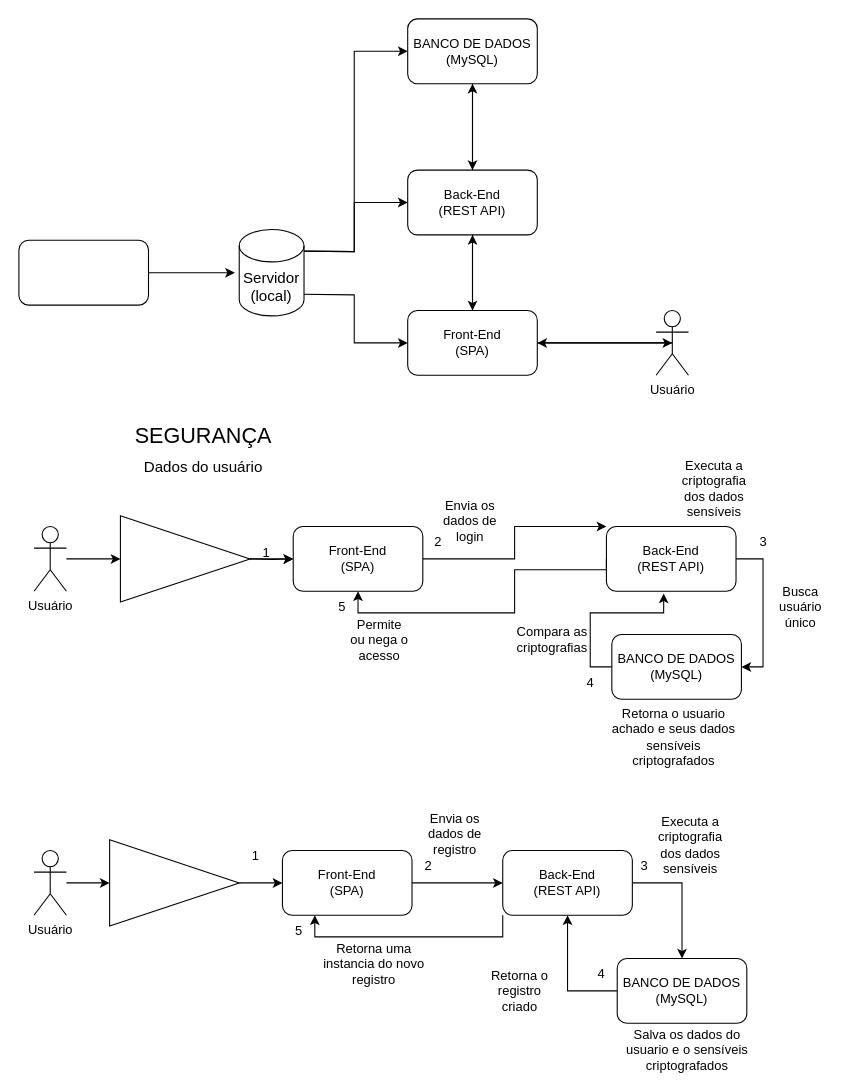
Some shapes in this 852 by 1092 pixel diagram are drawn without their labels. Here are the shapes that lost their labels. From the top down, the box of each, then its label:
(18, 239, 148, 305): CONTAINERS (Docker)
(119, 515, 250, 602): Autenticar
(109, 839, 239, 926): Gerar usuario
